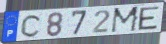2: (92, 9, 111, 34)
7: (70, 9, 89, 36)
8: (46, 11, 65, 38)
C: (20, 14, 44, 39)
E: (138, 5, 161, 31)
M: (110, 5, 142, 35)
